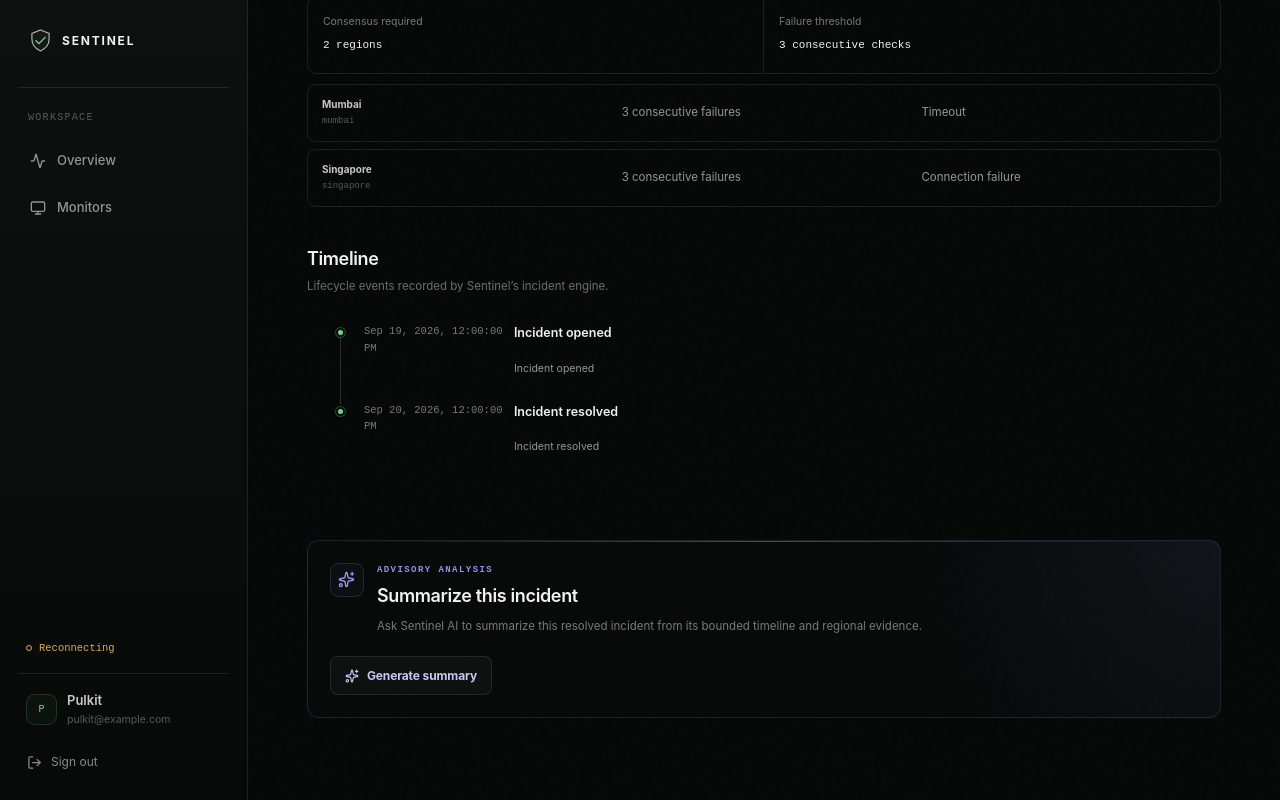
it: bounded incident summary › posts only on request and renders the completed incident result with cautious wording
The width and height of the screenshot is (1280, 800).
(page scrolled)
Check: the heading "Summarize this incident" is shown, box [377,585,578,606]
Click the button "Generate summary" at (411, 676), box [330,656,492,695]
(page scrolled)
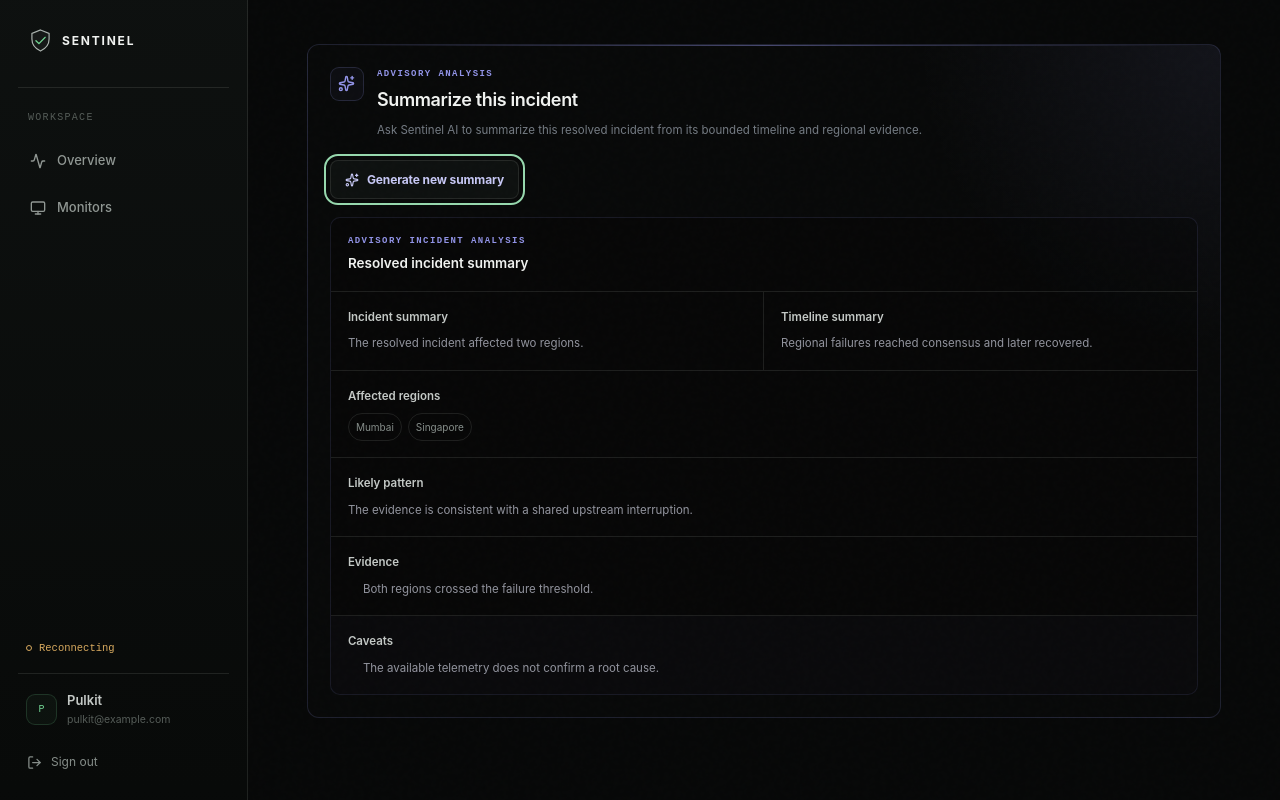
Check: the text "The resolved incident affected two regions." is shown, box [348,336,584,350]
Check: the text "Regional failures reached consensus and later recovered." is shown, box [781,336,1093,350]
Check: the heading "Likely pattern" is shown, box [348,476,424,490]
